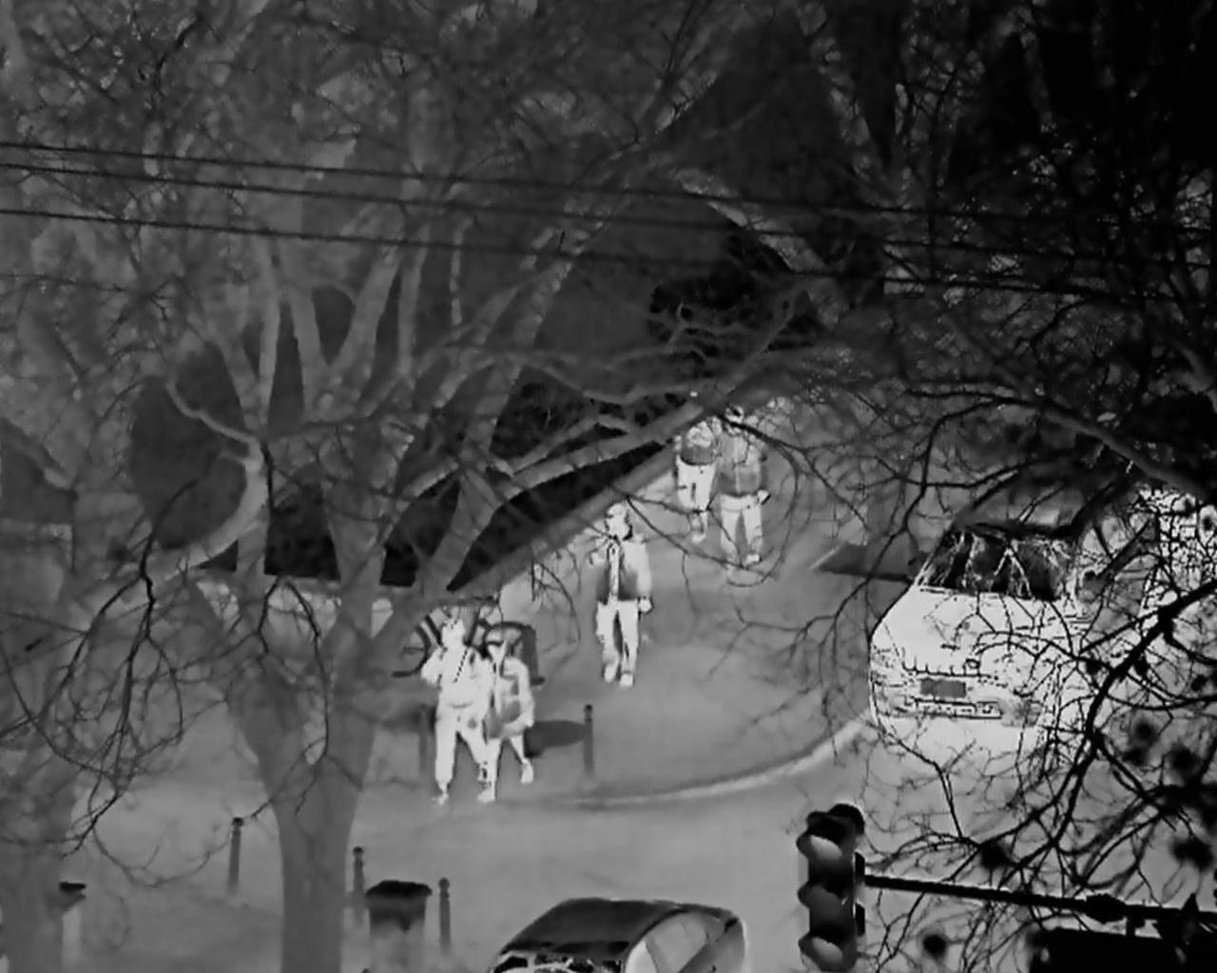person: (418, 617, 490, 804), (586, 502, 654, 690), (478, 632, 535, 799), (715, 426, 770, 576), (673, 419, 714, 544)
